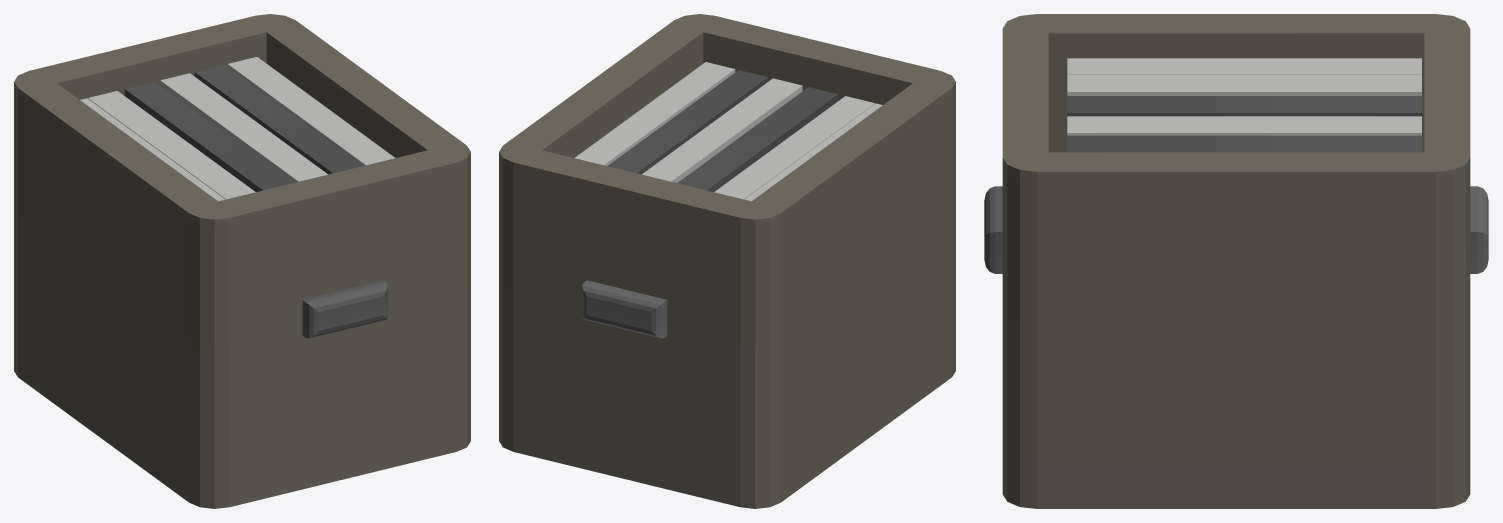
File: Paperholdingbox_v1.fbx
The picture shows the model from 3 angles, left to right: view 1: azimuth 30°, elevation 25°; view 2: azimuth 150°, elevation 25°; view 3: azimuth 270°, elevation 25°; orthographic projection. The views are drawn at different scales.
Visible parts, largest first — view 1: Paperholdingbox_v1; view 2: Paperholdingbox_v1; view 3: Paperholdingbox_v1.
Part boxes in pixels (x1,y1,x2,y2): Paperholdingbox_v1: (14,14,470,508); Paperholdingbox_v1: (499,14,955,508); Paperholdingbox_v1: (984,14,1488,508).
Size of the model in its own units: 32.84 by 32.7 by 44.34.
